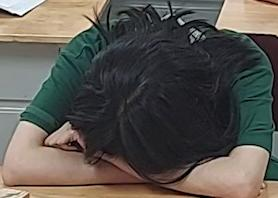Sleeping: (9, 8, 269, 196)
